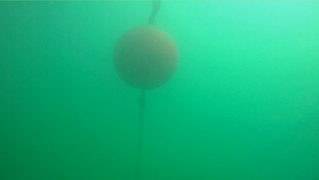buoy: (112, 24, 178, 90)
